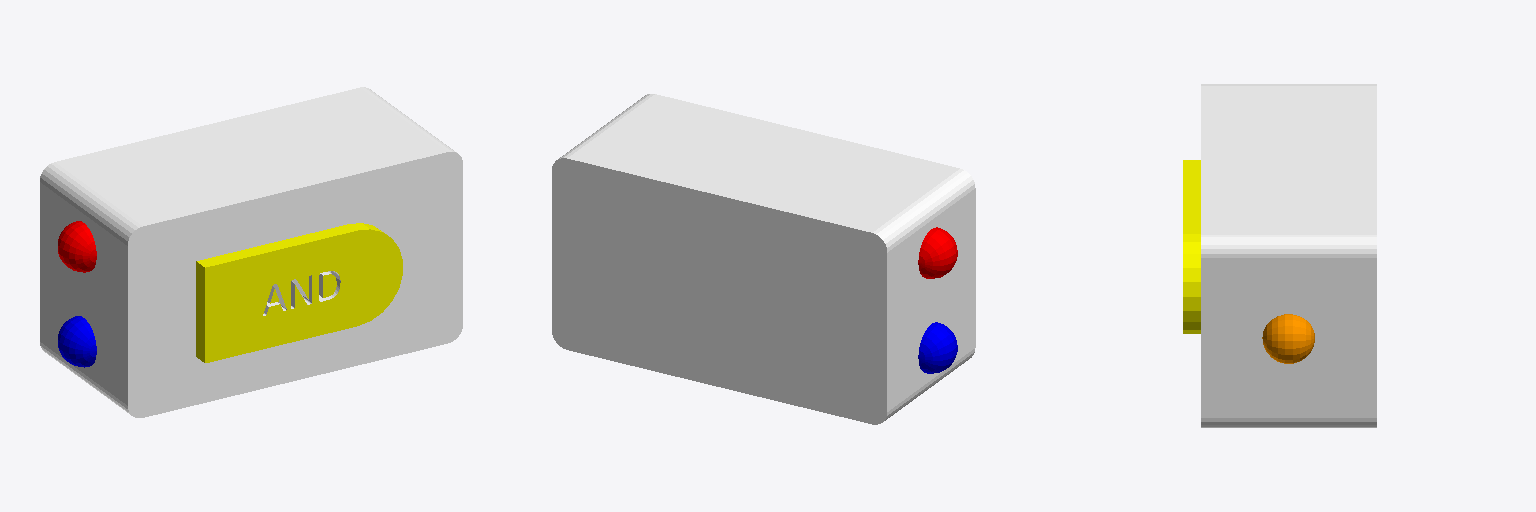
The model's file is ModAndGate.obj.
3 renders of one model, left to right at view 1: azimuth 30°, elevation 25°; view 2: azimuth 150°, elevation 25°; view 3: azimuth 270°, elevation 25°, orthographic.
Parts seen in each view (by area): view 1: ModAndGate; view 2: ModAndGate; view 3: ModAndGate.
Boxes of the visible parts, <box> form: ModAndGate: <box>40,87,462,417</box>; ModAndGate: <box>552,94,975,424</box>; ModAndGate: <box>1183,84,1376,427</box>.
Size of the model in its own units: 2.5 by 1.2 by 1.1.